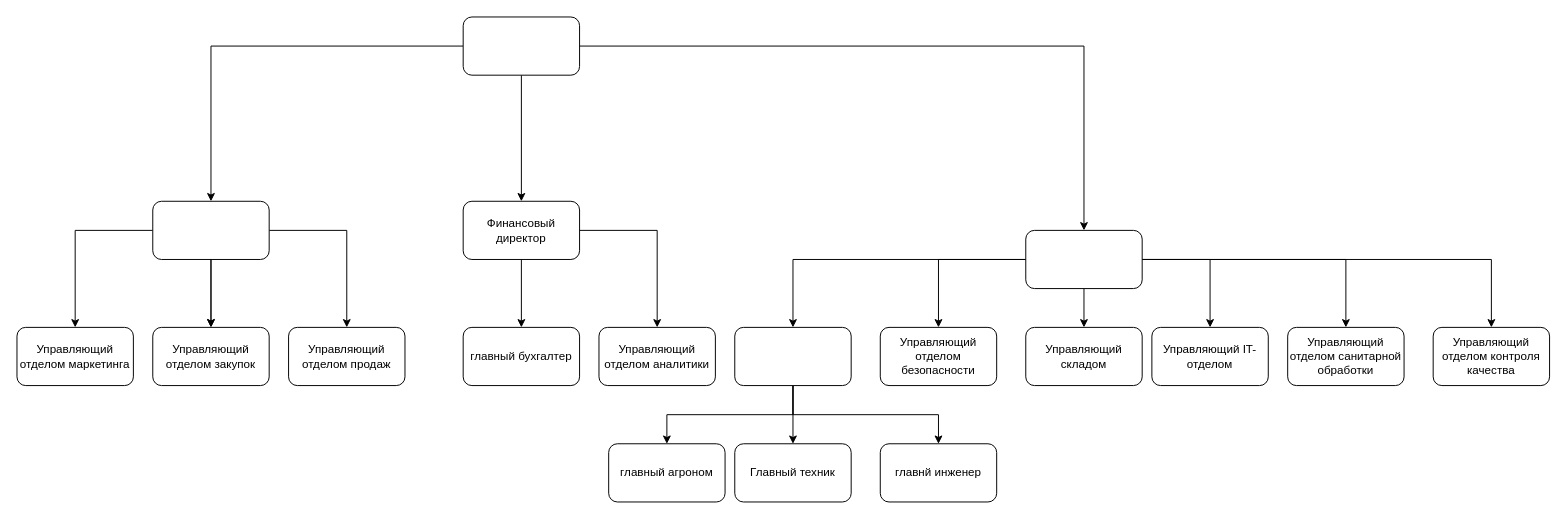
The diagram is 1567 pixels wide and 519 high, and some of its shapes have lost their labels. Each missing label, with the centre of its shape:
Генеральный директор: the point at 521,45
Коммерческий директор: the point at 210,229
Технический директор: the point at 1083,259
Управляющий производством: the point at 792,356
